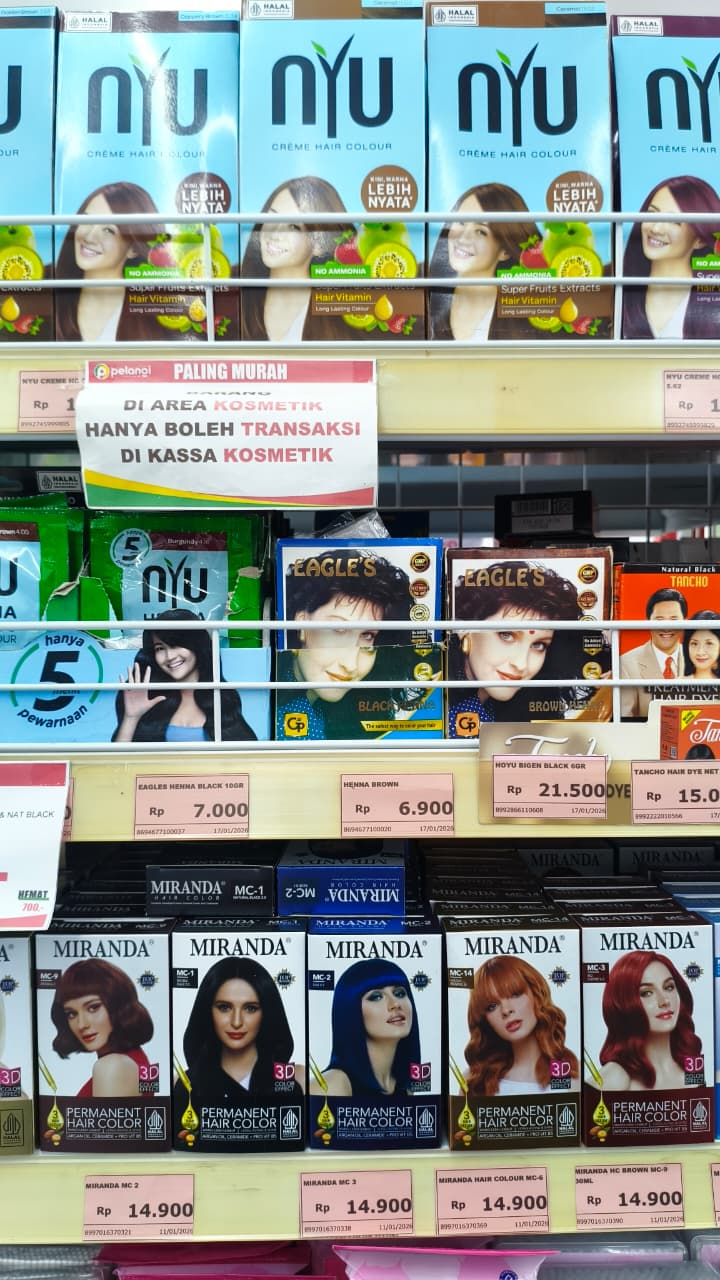Miranda: (166, 920, 312, 1119)
NYU: (238, 17, 410, 175), (436, 24, 608, 182), (113, 529, 224, 638)
